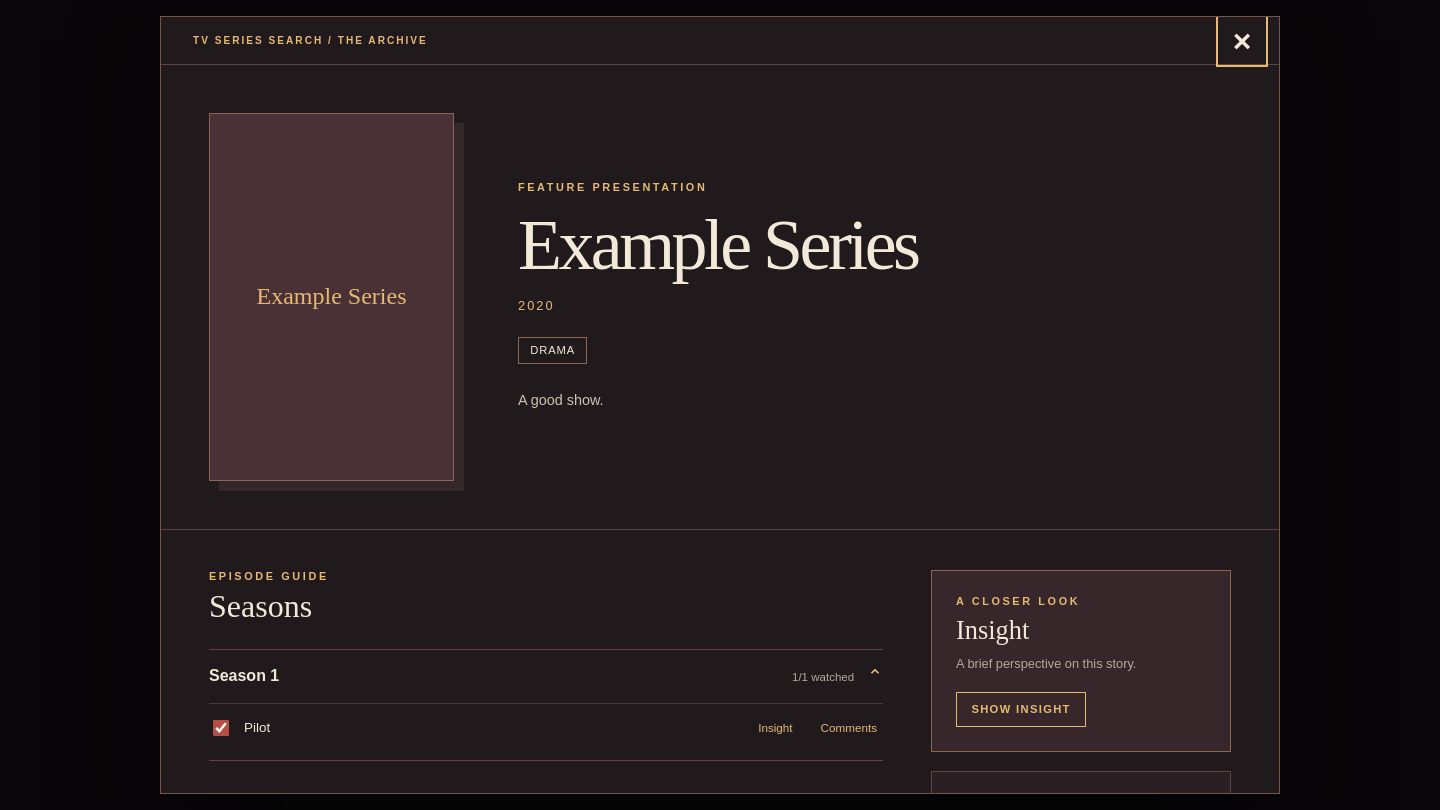
Test: series details › rolls back an optimistic watched change when saving fails
The image size is (1440, 810).
Click the checkbox labelled "Pilot": x=221, y=728 213,720 -> 229,736
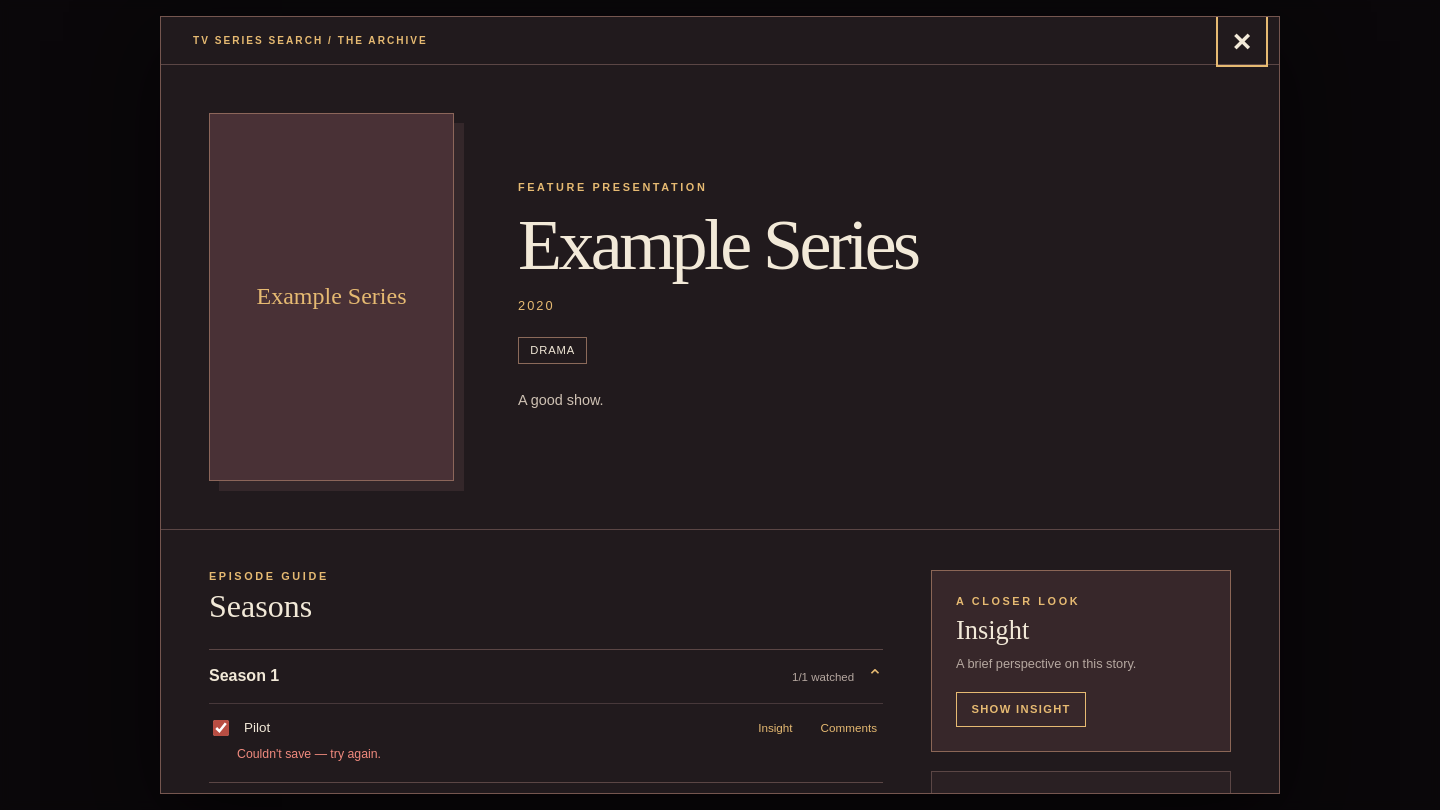
Expected: the text "1/1 watched" is shown, 792,671 -> 857,683
Result: the text "Couldn't save — try again." is shown at 237,747 -> 381,761
